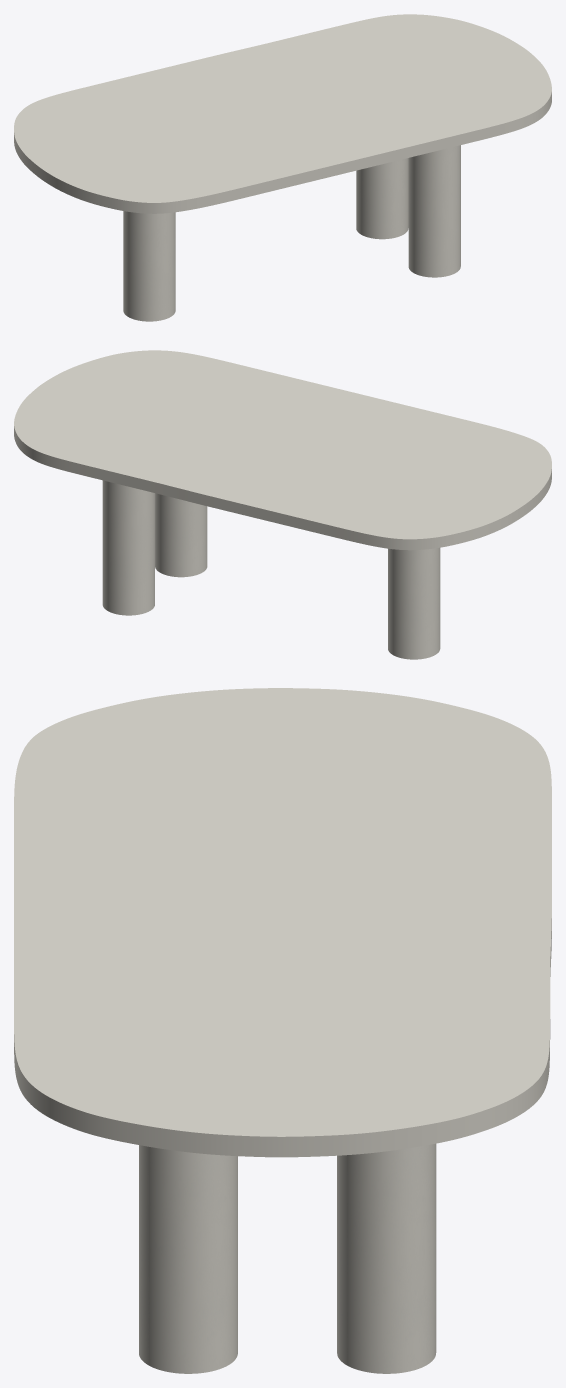
The model's file is pale_oval_standard_cylinder.glb.
3 views of the same model, one above another, from view 1: azimuth 30°, elevation 25°; view 2: azimuth 150°, elevation 25°; view 3: azimuth 270°, elevation 25° (orthographic). The views are drawn at different scales.
Parts seen in each view (by area): view 1: standard_oval, cylinder; view 2: standard_oval, cylinder; view 3: standard_oval, cylinder.
Boxes of the visible parts, left/top/right/bottom form: standard_oval: left=14, top=14, right=551, bottom=213; cylinder: left=123, top=145, right=460, bottom=321; standard_oval: left=14, top=350, right=551, bottom=550; cylinder: left=102, top=480, right=440, bottom=659; standard_oval: left=14, top=688, right=551, bottom=1157; cylinder: left=139, top=1143, right=436, bottom=1373.
Size of the model in its own units: 7.5 by 2.52 by 3.8.
1 material, 1 textured.
